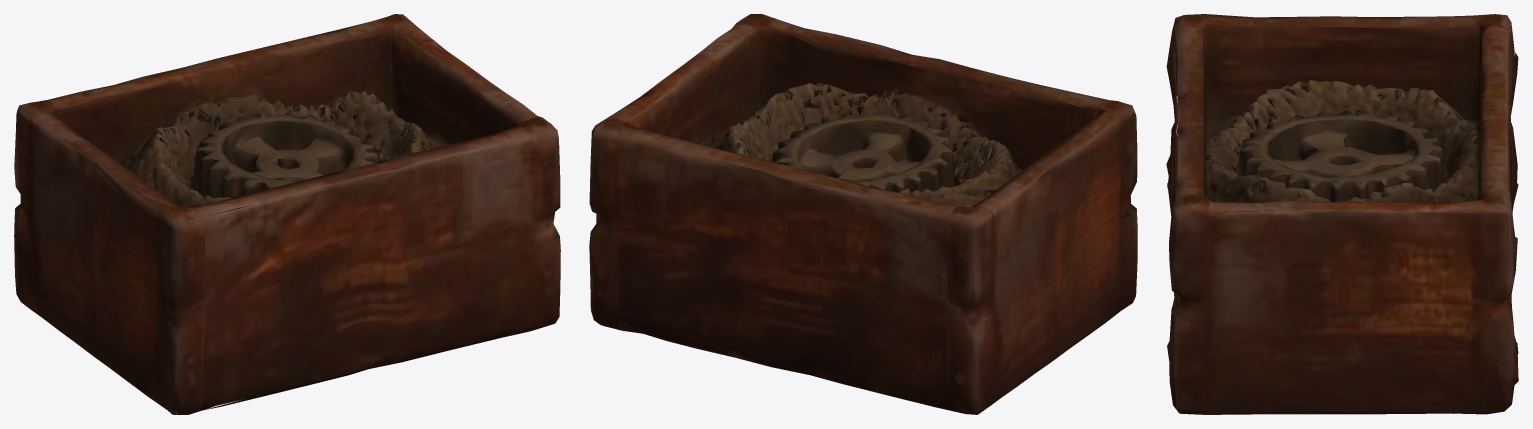
The model's file is caja_moldeo.glb.
3 views of the same model, side by side, from view 1: azimuth 30°, elevation 25°; view 2: azimuth 150°, elevation 25°; view 3: azimuth 270°, elevation 25° (orthographic). The views are drawn at different scales.
Visible parts, largest first — view 1: geometry_0; view 2: geometry_0; view 3: geometry_0.
Boxes of the visible parts, left/top/right/bottom form: geometry_0: left=14, top=14, right=560, bottom=414; geometry_0: left=589, top=14, right=1137, bottom=414; geometry_0: left=1166, top=14, right=1518, bottom=414.
Size of the model in its own units: 0.5997 by 0.3006 by 0.45.
1 material, 1 textured.
